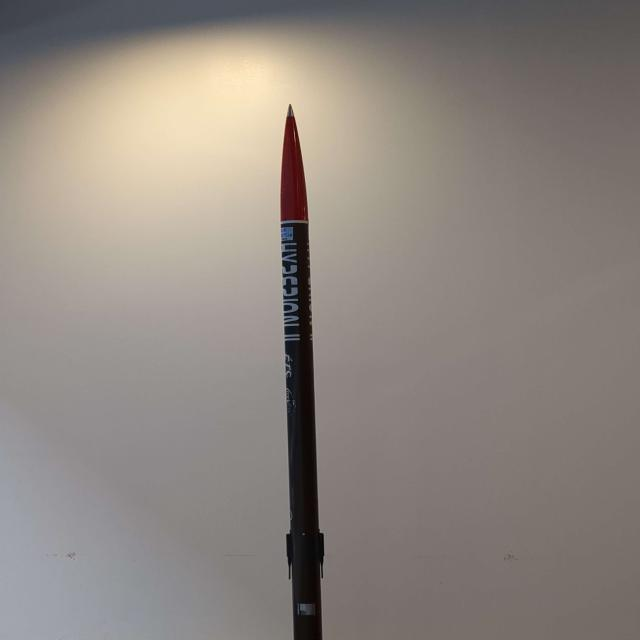Rocket: (280, 104, 325, 640)
